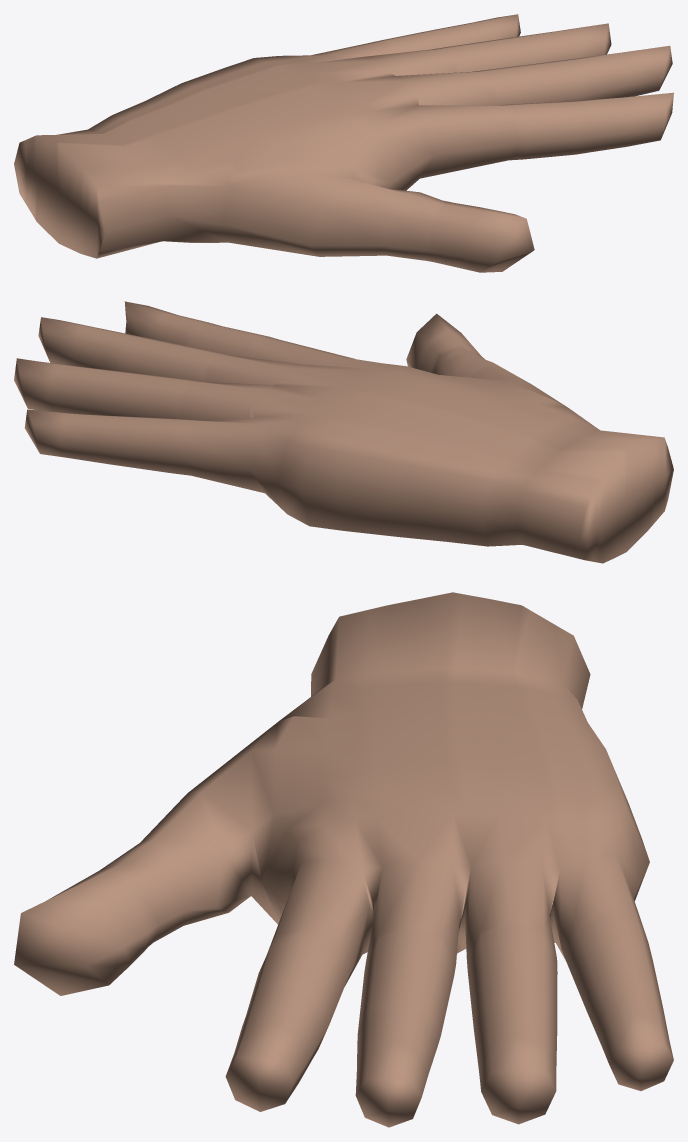
The model's file is TextureHand.fbx.
The picture shows the model from 3 angles, top to bottom: view 1: azimuth 30°, elevation 25°; view 2: azimuth 150°, elevation 25°; view 3: azimuth 270°, elevation 25°; orthographic projection. The views are drawn at different scales.
Parts seen in each view (by area): view 1: pinky1; view 2: pinky1; view 3: pinky1.
Boxes of the visible parts, x1,y1,x2,y2 form: pinky1: (14, 14, 673, 272); pinky1: (14, 301, 673, 563); pinky1: (14, 592, 673, 1127).
Bounding box in the file's own units: 17.38 × 3.12 × 10.99.
